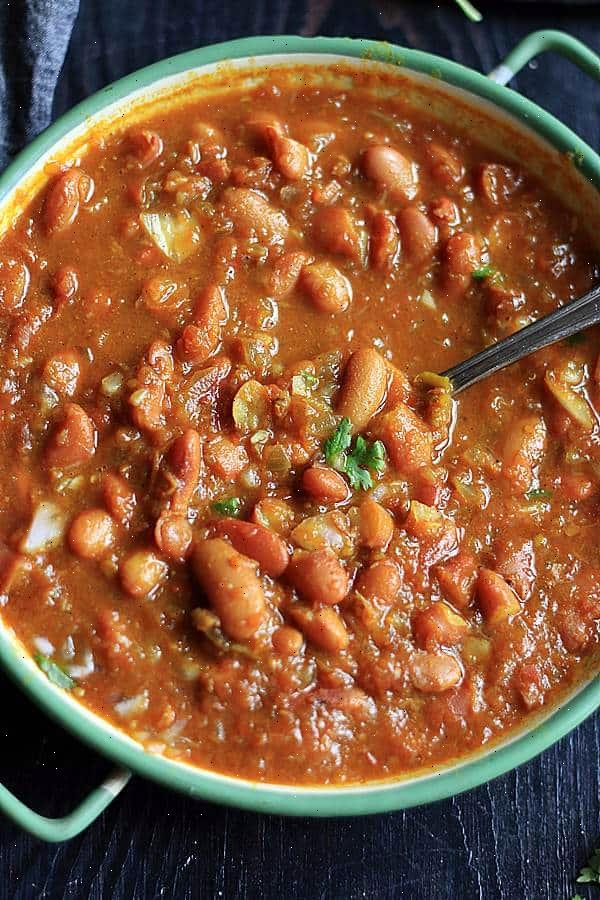rajma: (0, 45, 600, 852)
